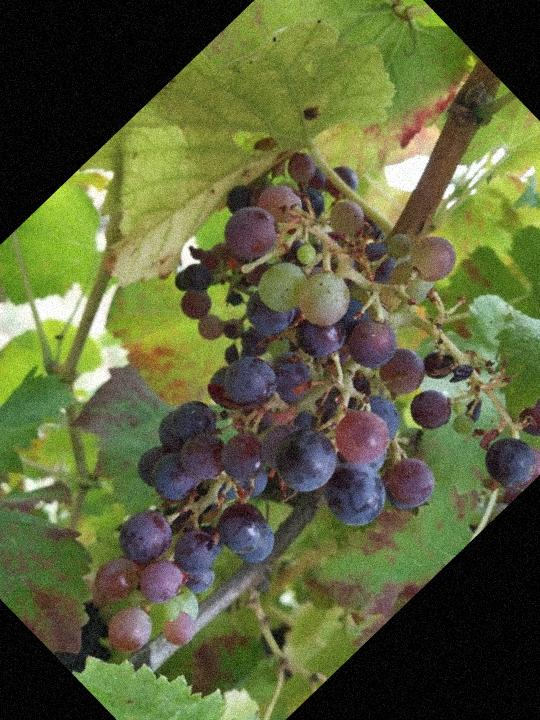grape: (0, 102, 540, 720)
